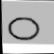no answer: (5, 13, 41, 43)
